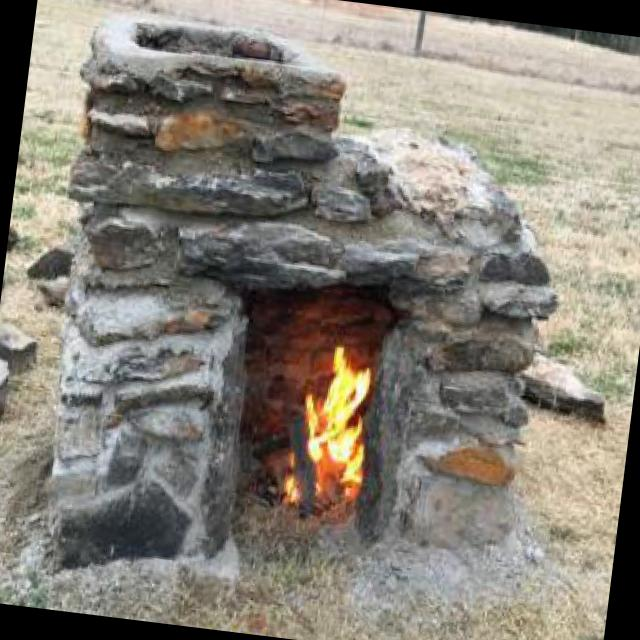fire: (276, 342, 388, 522)
